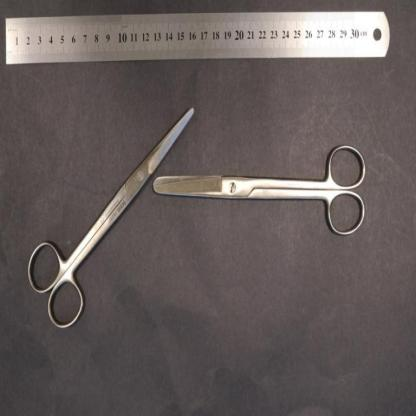Curved Mayo Scissors: (27, 106, 194, 332)
Dressing Scissors: (153, 144, 367, 238)
